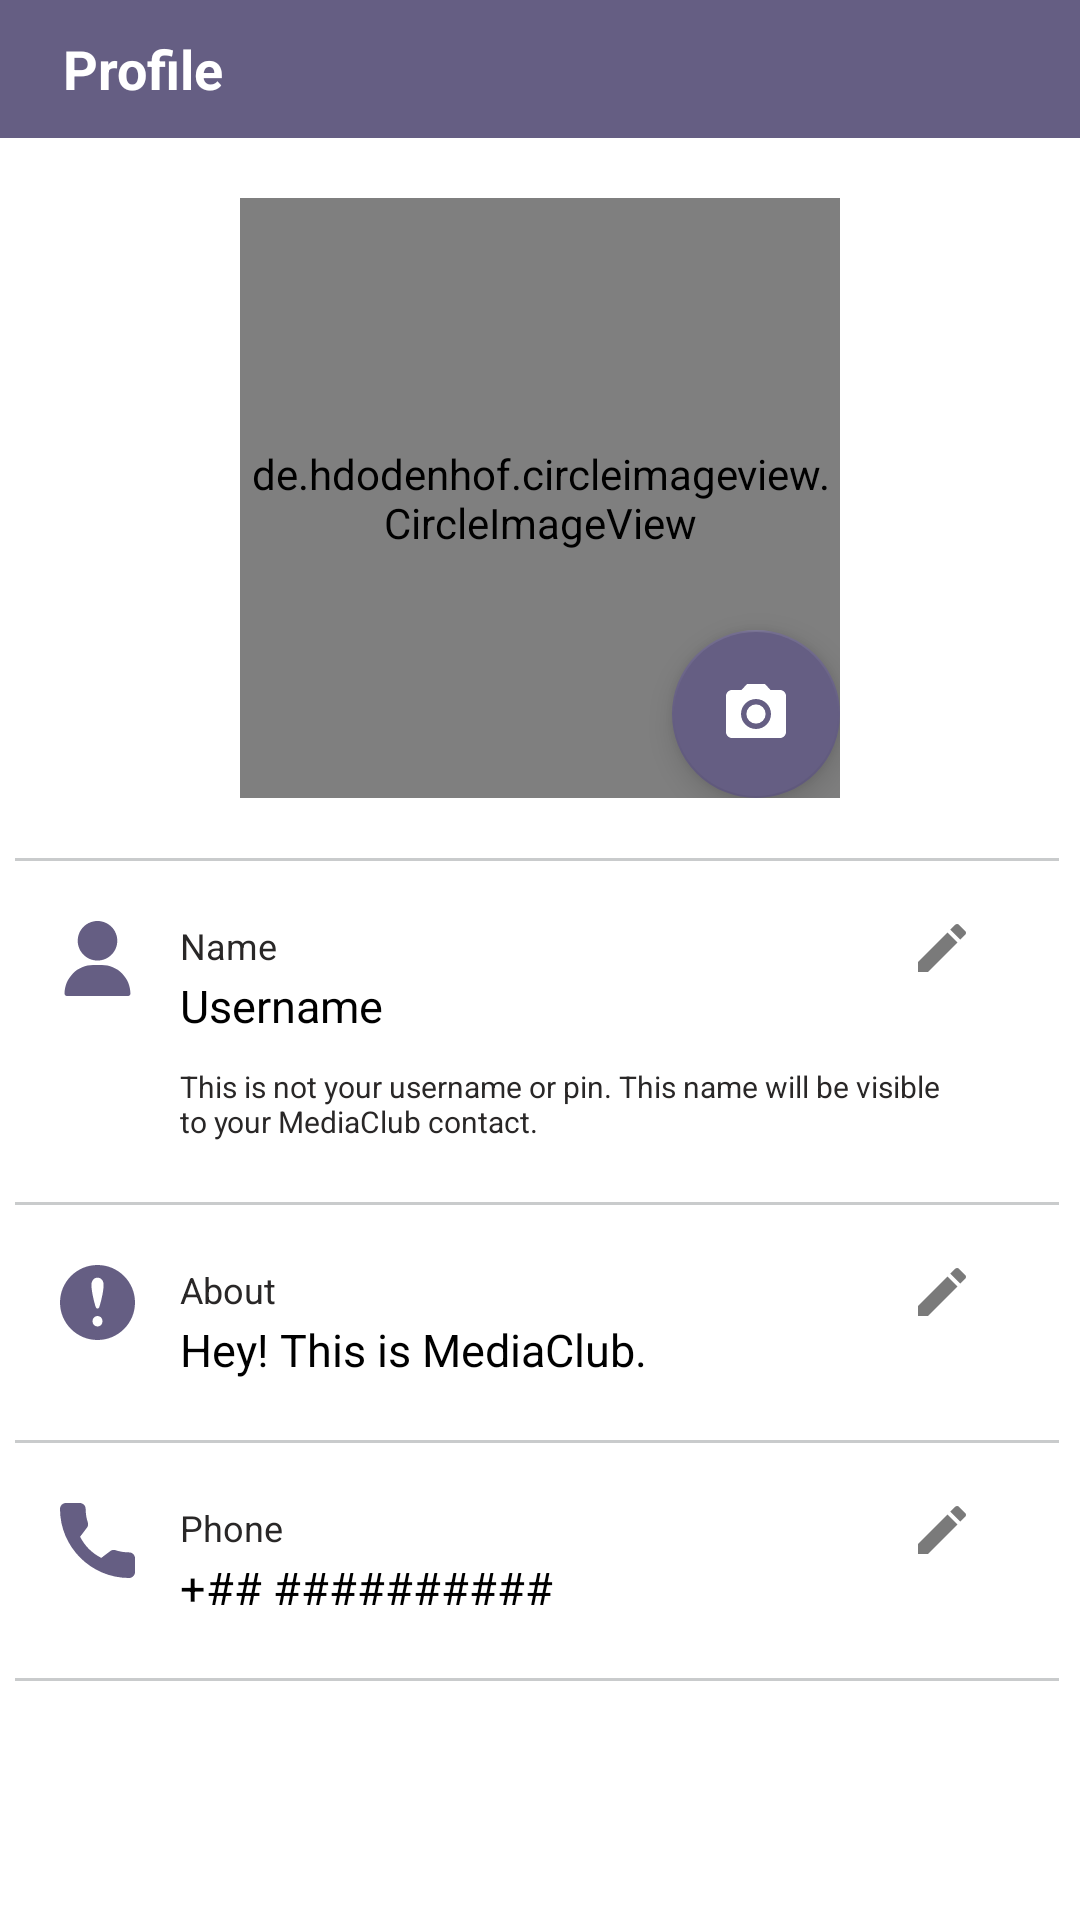

Where icons sit on this 1080px x 1920px app screen, as (x1, y1, x2, y2):
camera: (672, 630, 840, 798)
edit: (918, 924, 966, 972), (918, 1268, 966, 1316), (918, 1506, 966, 1554)
pcall: (60, 1503, 135, 1578)
